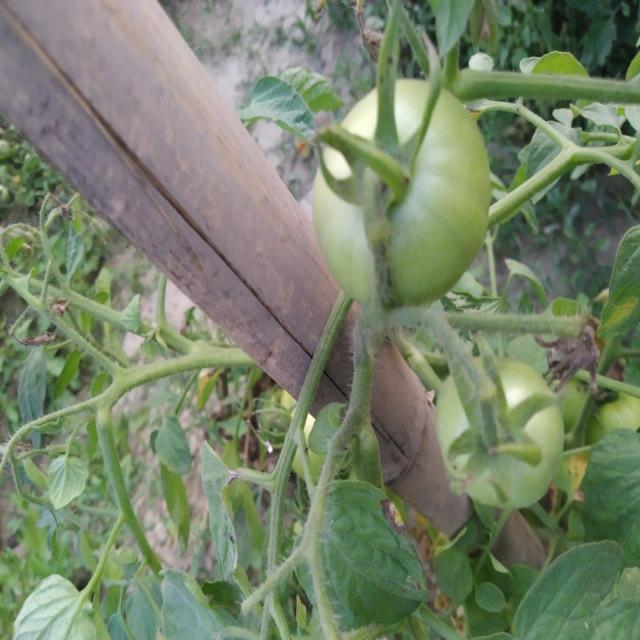Unripe: (312, 76, 491, 311), (434, 351, 565, 509)
